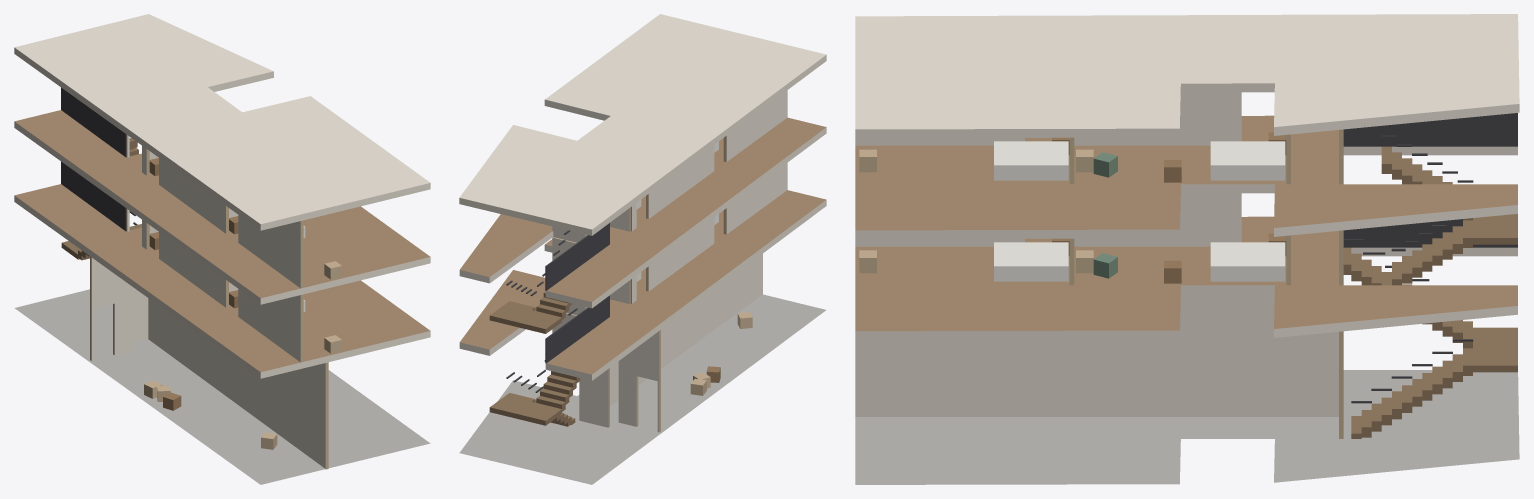
Rendered from interior.glb.
3 views of the same model, side by side, from view 1: azimuth 30°, elevation 25°; view 2: azimuth 150°, elevation 25°; view 3: azimuth 270°, elevation 25° (orthographic). The views are drawn at different scales.
Parts seen in each view (by area): view 1: slabs, partitions, stair, coarse-s0, coarse-s2, coarse-s1; view 2: slabs, partitions, stair, coarse-s0; view 3: slabs, partitions, stair, coarse-s1, coarse-s2.
Boxes of the visible parts, left/top/right/bottom form: slabs: left=14, top=14, right=430, bottom=484; partitions: left=90, top=134, right=328, bottom=469; stair: left=61, top=87, right=141, bottom=260; coarse-s0: left=144, top=380, right=277, bottom=449; coarse-s2: left=149, top=158, right=341, bottom=279; coarse-s1: left=149, top=232, right=341, bottom=353; slabs: left=459, top=14, right=826, bottom=484; partitions: left=552, top=90, right=787, bottom=432; stair: left=489, top=223, right=609, bottom=426; coarse-s0: left=690, top=312, right=752, bottom=395; slabs: left=855, top=14, right=1519, bottom=484; partitions: left=855, top=92, right=1343, bottom=438; stair: left=1343, top=113, right=1517, bottom=438; coarse-s1: left=859, top=233, right=1286, bottom=283; coarse-s2: left=859, top=132, right=1286, bottom=182.
Bounding box in the file's own units: 7.28 × 10.47 × 17.69.
